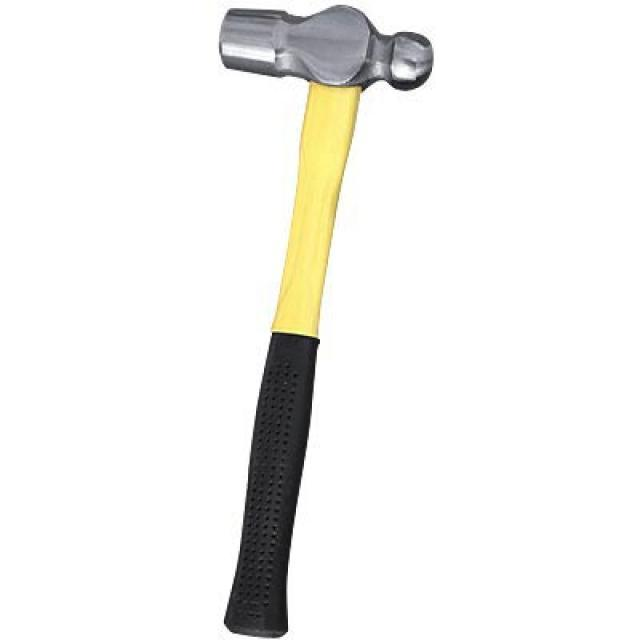hammer: (217, 3, 439, 640)
